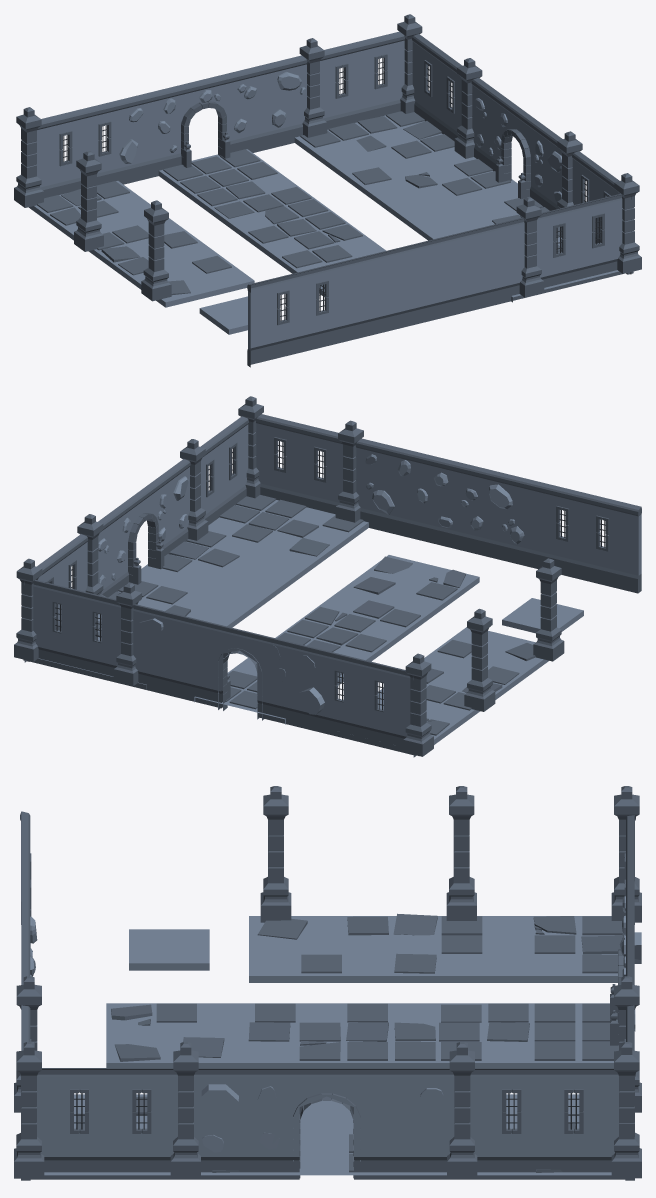
The model's file is tutorialMap.fbx.
3 views of the same model, one above another, from view 1: azimuth 30°, elevation 25°; view 2: azimuth 150°, elevation 25°; view 3: azimuth 270°, elevation 25° (orthographic). The views are drawn at different scales.
Visible parts, largest first — view 1: Cube.007, Cube; view 2: Cube.007, Cube; view 3: Cube.007, Cube.
Boxes of the visible parts, x1,y1,x2,y2 form: Cube.007: (14,14,641,367); Cube: (119,72,562,201); Cube.007: (14,396,641,757); Cube: (97,454,524,714); Cube.007: (14,786,641,1180); Cube: (30,896,641,1152).
Bounding box in the file's own units: 1577 × 381 × 1557.
Materials: 2 (2 with a texture image).
